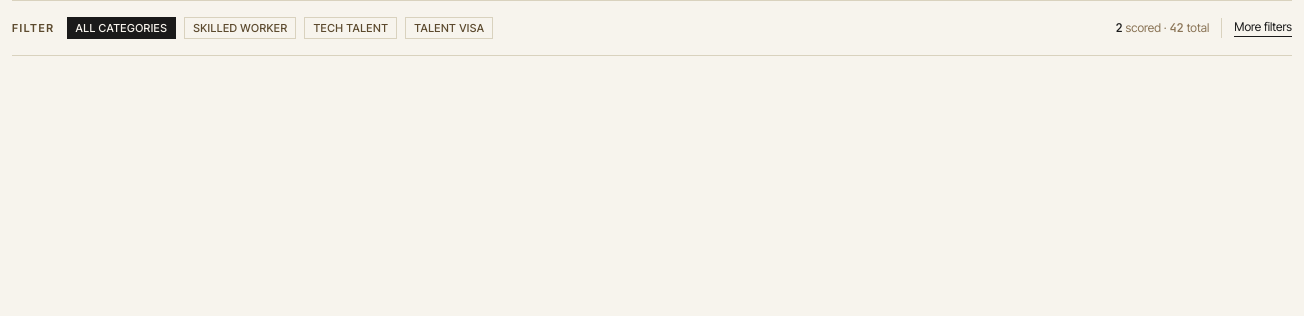
it: RankingsFilters — More filters disclosure › closes again on second toggle
The width and height of the screenshot is (1304, 316).
Click the button with test id "more-filters-toggle". click: {"x": 1263, "y": 28}
box: [1234,19,1292,37]
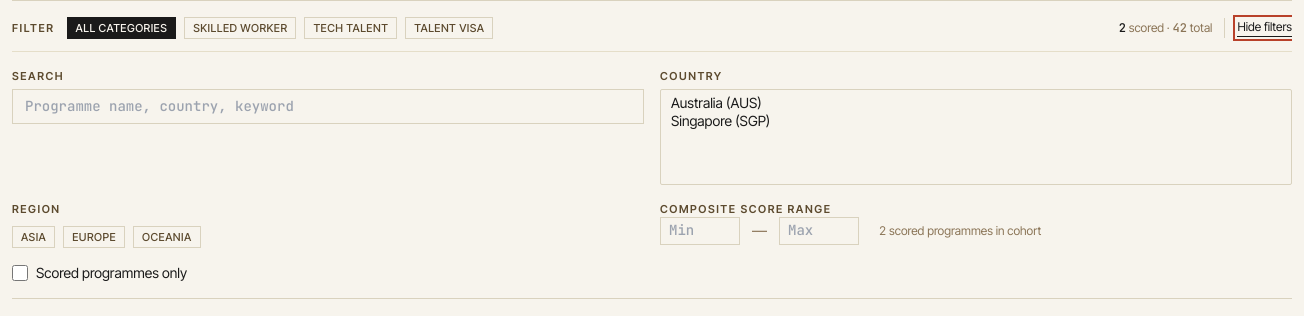
Check: the element with test id "more-filters" is shown
Click the button with test id "more-filters-toggle". click: {"x": 1265, "y": 28}
box: [1237,19,1292,37]
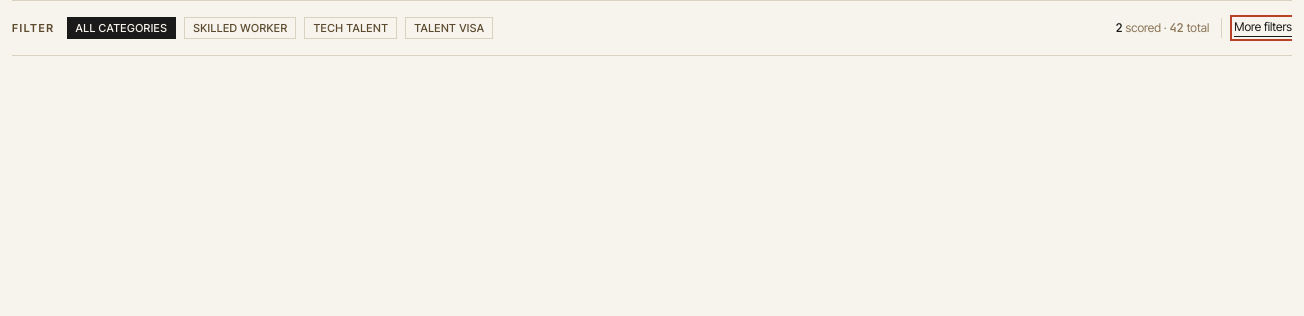
Check: the element with test id "more-filters" is gone
